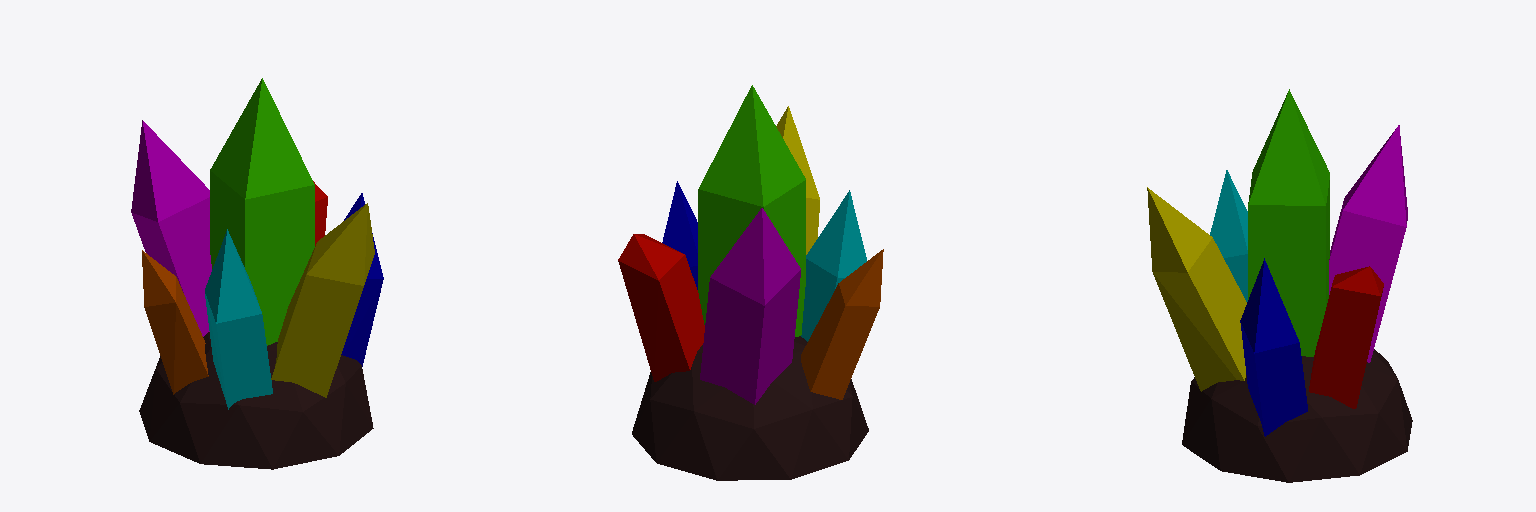
Rendered from one_crystal.obj.
The picture shows the model from 3 angles: view 1: azimuth 30°, elevation 25°; view 2: azimuth 150°, elevation 25°; view 3: azimuth 270°, elevation 25°; orthographic projection.
Visible parts, largest first — view 1: Icosphere.001_Icosphere.002, Cone.013_Cone.014, Cone.011_Cone.012, Cone.012_Cone.013, Cone.009_Cone.010, Cone.007_Cone.008, Cone.008_Cone.009, Cone.010_Cone.011; view 2: Icosphere.001_Icosphere.002, Cone.012_Cone.013, Cone.013_Cone.014, Cone.010_Cone.011, Cone.007_Cone.008, Cone.009_Cone.010, Cone.008_Cone.009, Cone.011_Cone.012; view 3: Icosphere.001_Icosphere.002, Cone.013_Cone.014, Cone.011_Cone.012, Cone.012_Cone.013, Cone.008_Cone.009, Cone.010_Cone.011, Cone.009_Cone.010.
Boxes of the visible parts, x1=… form: Icosphere.001_Icosphere.002: x1=139, y1=332, x2=373, y2=469; Cone.013_Cone.014: x1=210, y1=78, x2=314, y2=345; Cone.011_Cone.012: x1=271, y1=203, x2=374, y2=397; Cone.012_Cone.013: x1=131, y1=120, x2=211, y2=336; Cone.009_Cone.010: x1=205, y1=229, x2=272, y2=409; Cone.007_Cone.008: x1=142, y1=250, x2=208, y2=394; Cone.008_Cone.009: x1=341, y1=193, x2=383, y2=366; Cone.010_Cone.011: x1=313, y1=181, x2=327, y2=245; Icosphere.001_Icosphere.002: x1=632, y1=336, x2=868, y2=480; Cone.012_Cone.013: x1=700, y1=208, x2=800, y2=404; Cone.013_Cone.014: x1=698, y1=85, x2=805, y2=336; Cone.010_Cone.011: x1=618, y1=234, x2=704, y2=381; Cone.007_Cone.008: x1=801, y1=249, x2=883, y2=399; Cone.009_Cone.010: x1=801, y1=190, x2=866, y2=341; Cone.008_Cone.009: x1=662, y1=181, x2=697, y2=289; Cone.011_Cone.012: x1=776, y1=106, x2=819, y2=254; Icosphere.001_Icosphere.002: x1=1182, y1=349, x2=1412, y2=482; Cone.013_Cone.014: x1=1248, y1=89, x2=1329, y2=356; Cone.011_Cone.012: x1=1147, y1=187, x2=1246, y2=391; Cone.012_Cone.013: x1=1329, y1=125, x2=1407, y2=362; Cone.008_Cone.009: x1=1240, y1=258, x2=1307, y2=436; Cone.010_Cone.011: x1=1309, y1=266, x2=1383, y2=408; Cone.009_Cone.010: x1=1210, y1=170, x2=1247, y2=301.
Bounding box in the file's own units: 4.81 × 6.89 × 4.81.